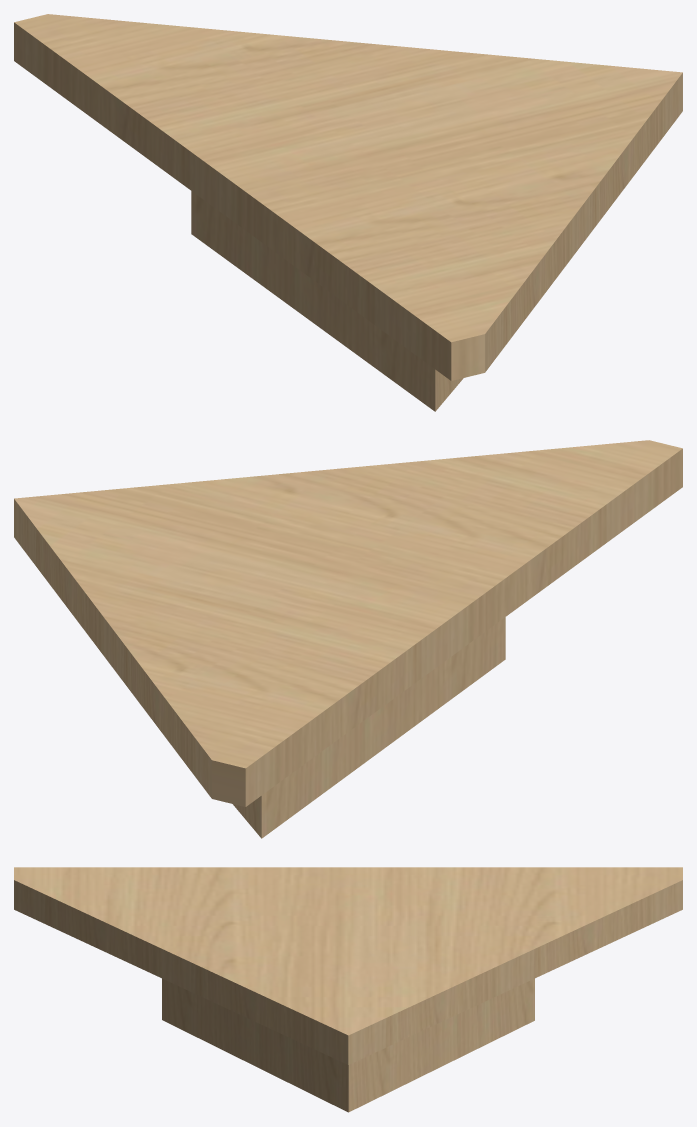
The model's file is angled_table.fbx.
The picture shows the model from 3 angles, top to bottom: view 1: azimuth 30°, elevation 25°; view 2: azimuth 150°, elevation 25°; view 3: azimuth 270°, elevation 25°; orthographic projection. The views are drawn at different scales.
Visible parts, largest first — view 1: pCube3; view 2: pCube3; view 3: pCube3.
Boxes of the visible parts, <box> form: pCube3: <box>14,14,682,411</box>; pCube3: <box>14,440,682,838</box>; pCube3: <box>14,867,682,1112</box>.
Size of the model in its own units: 1.53 by 0.5235 by 2.58.
Materials: 1 (1 with a texture image).
